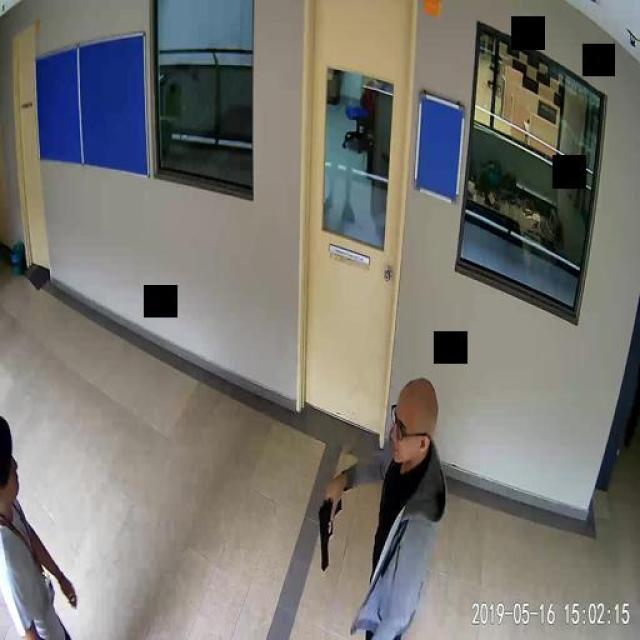gun: (316, 485, 340, 569)
